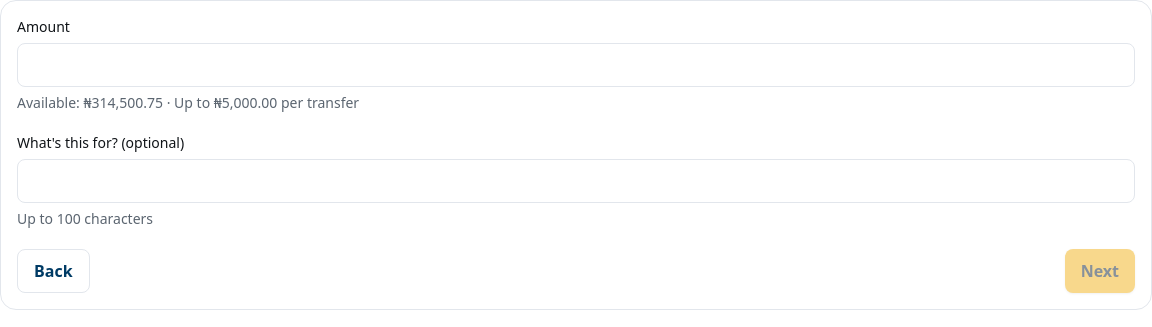
Test: AmountStep › caps typed input at 2 decimal places instead of accepting a 3rd digit
The image size is (1152, 327).
Type "1.234" into the field labelled "Amount" at x=576, y=65, box [17, 43, 1135, 87]
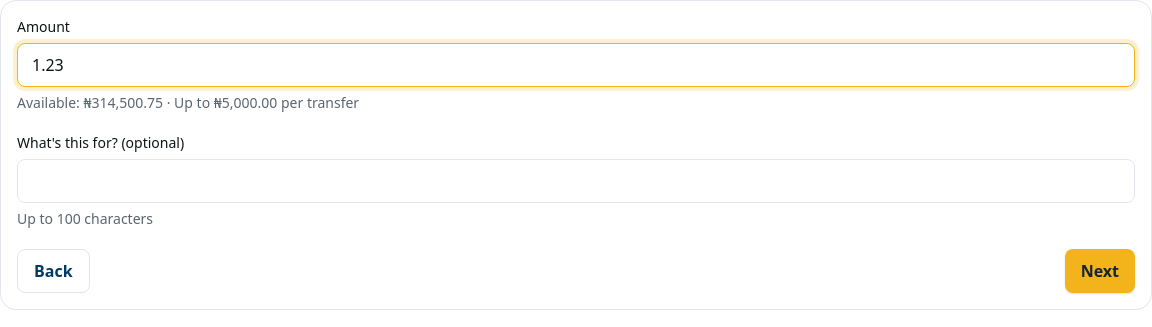
Check: the field labelled "Amount" holds "1.23", box [17, 43, 1135, 87]
